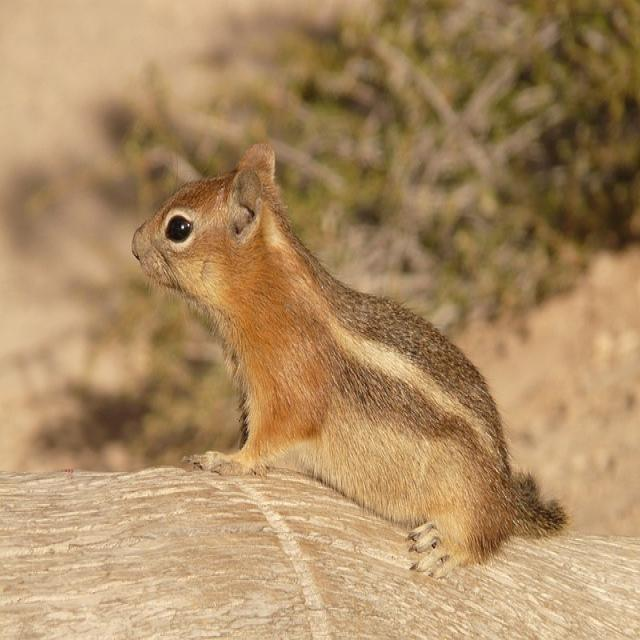Herbivorous: (130, 143, 565, 569)
